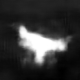plane: (13, 22, 73, 67)
